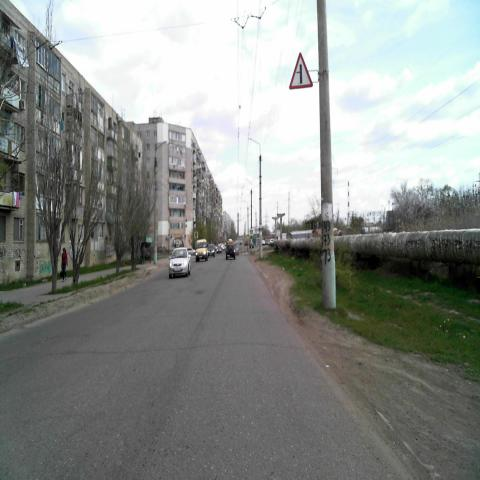2_3_3: (288, 49, 314, 89)
